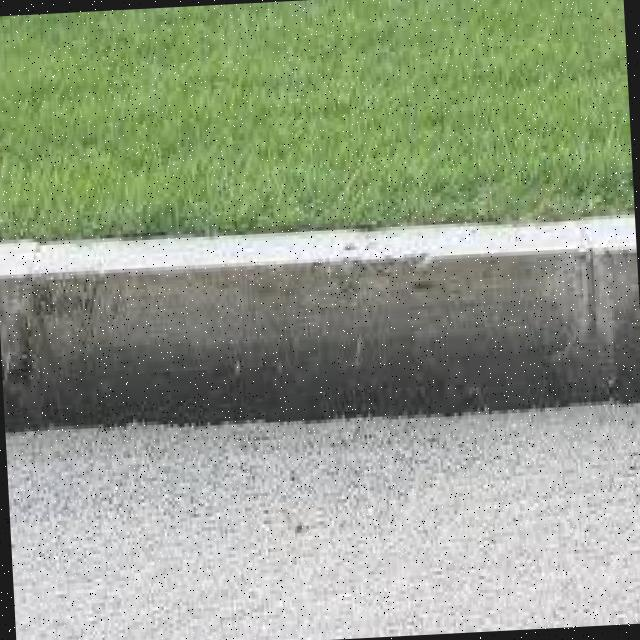curb: (1, 201, 640, 458)
